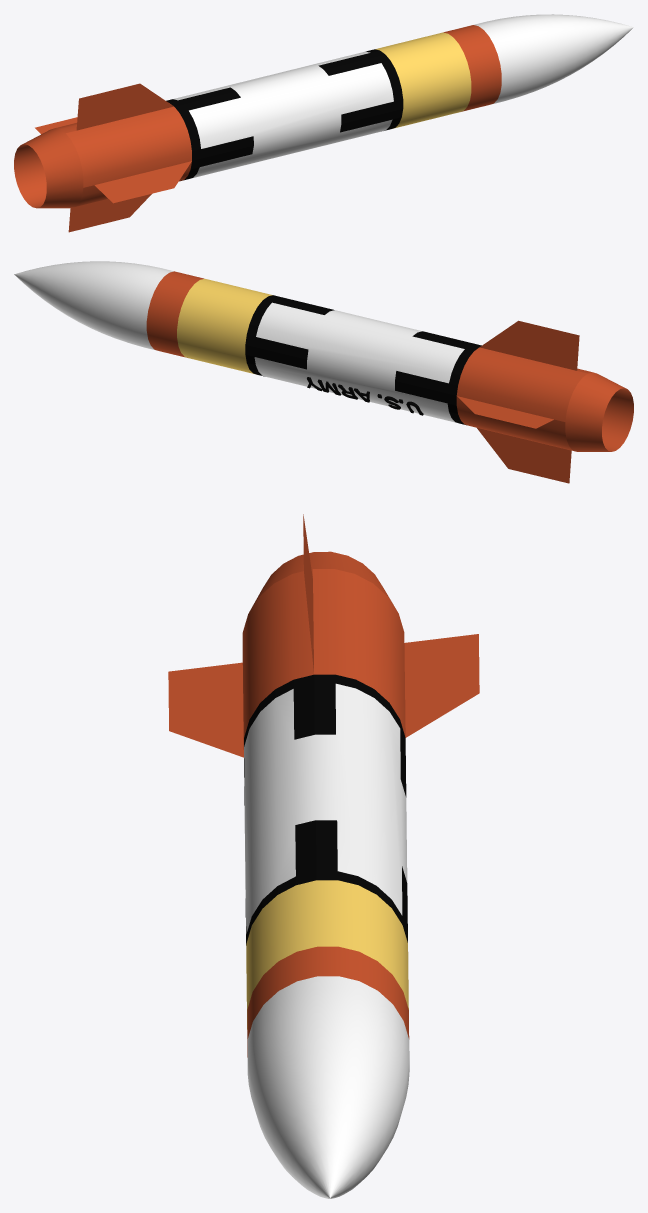
Rendered from missle.dae.
3 views of the same model, one above another, from view 1: azimuth 30°, elevation 25°; view 2: azimuth 150°, elevation 25°; view 3: azimuth 270°, elevation 25° (orthographic). The views are drawn at different scales.
Visible parts, largest first — view 1: SketchUp (×10); view 2: SketchUp (×10); view 3: SketchUp (×9).
Boxes of the visible parts, box(x1,y1,x2,y2) form: SketchUp (×10): box(14, 14, 633, 232); SketchUp (×10): box(14, 261, 633, 483); SketchUp (×9): box(168, 551, 479, 1198).
Bounding box in the file's own units: 27.81 × 6.22 × 6.21.
